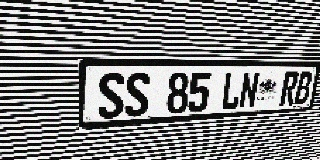5: (188, 72, 211, 113)
8: (166, 72, 190, 114)
B: (294, 72, 313, 105)
L: (220, 72, 243, 110)
N: (238, 72, 260, 109)
R: (279, 72, 299, 106)
S: (98, 73, 125, 119), (125, 73, 150, 117)
